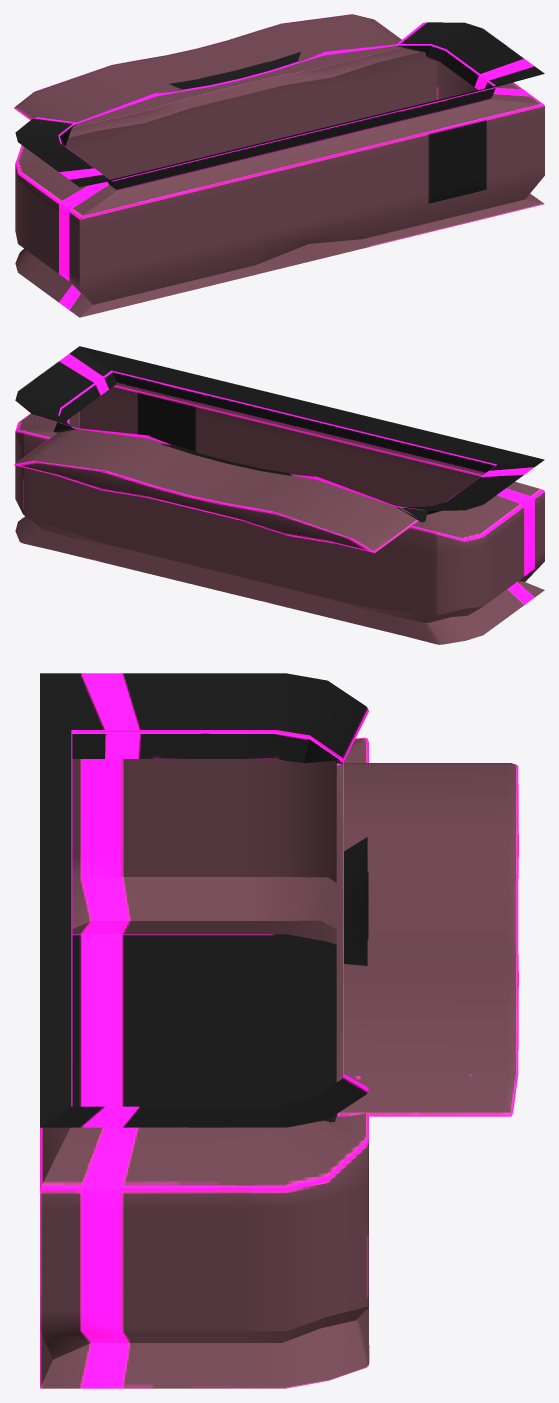
Rendered from dj_down.fbx.
3 views of the same model, one above another, from view 1: azimuth 30°, elevation 25°; view 2: azimuth 150°, elevation 25°; view 3: azimuth 270°, elevation 25° (orthographic). The views are drawn at different scales.
Parts seen in each view (by area): view 1: dj_down_Baked; view 2: dj_down_Baked; view 3: dj_down_Baked.
Part boxes in pixels (x1=…): dj_down_Baked: x1=14, y1=14, x2=544, y2=317; dj_down_Baked: x1=14, y1=346, x2=544, y2=644; dj_down_Baked: x1=40, y1=673, x2=518, y2=1388.
Size of the model in its own units: 2795 by 762 by 1245.
Materials: 1 (1 with a texture image).
